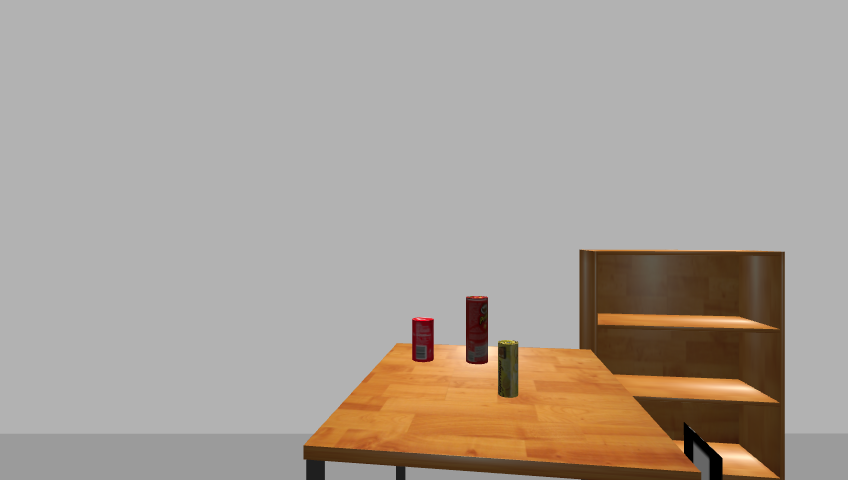aruco marker: (680, 423, 727, 480)
biscuits pack: (498, 340, 520, 399)
bookshelf: (574, 248, 793, 479)
coke can: (410, 317, 436, 364)
dinner table: (298, 341, 703, 480)
pringles can: (463, 295, 491, 366)
